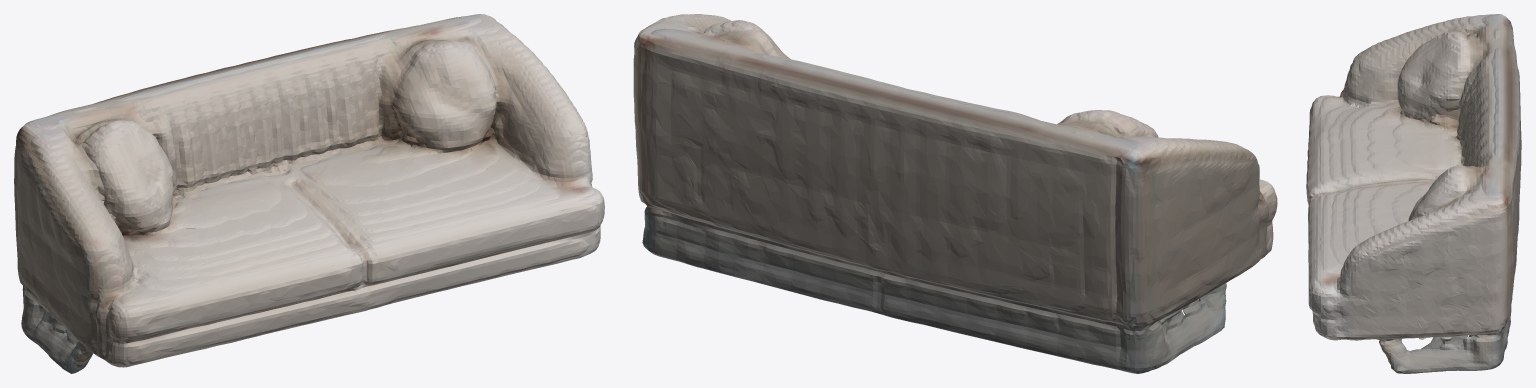
The model's file is icon-velvet-3-seater-sofa-beige.glb.
The picture shows the model from 3 angles, left to right: view 1: azimuth 30°, elevation 25°; view 2: azimuth 150°, elevation 25°; view 3: azimuth 270°, elevation 25°; orthographic projection. The views are drawn at different scales.
Parts seen in each view (by area): view 1: orient; view 2: orient; view 3: orient.
Part boxes in pixels (x1,y1,x2,y2): orient: (14,14,604,373); orient: (633,14,1277,373); orient: (1306,14,1521,373).
Bounding box in the file's own units: 2.02 × 0.8 × 0.89.
